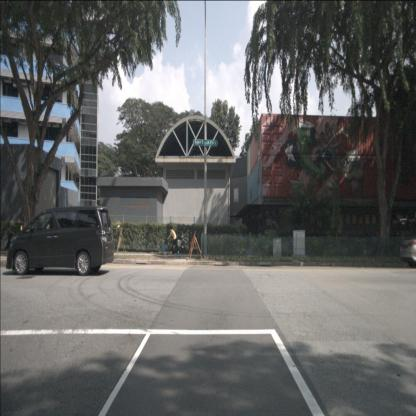human-pedestrian-adult: (167, 226, 179, 254)
vehicle-car: (6, 206, 114, 277), (399, 231, 416, 268)
